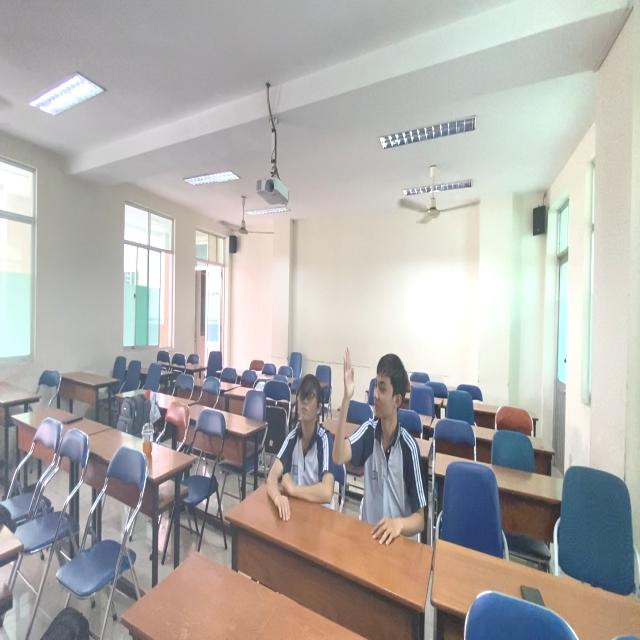raise_hand: (337, 342, 436, 522)
